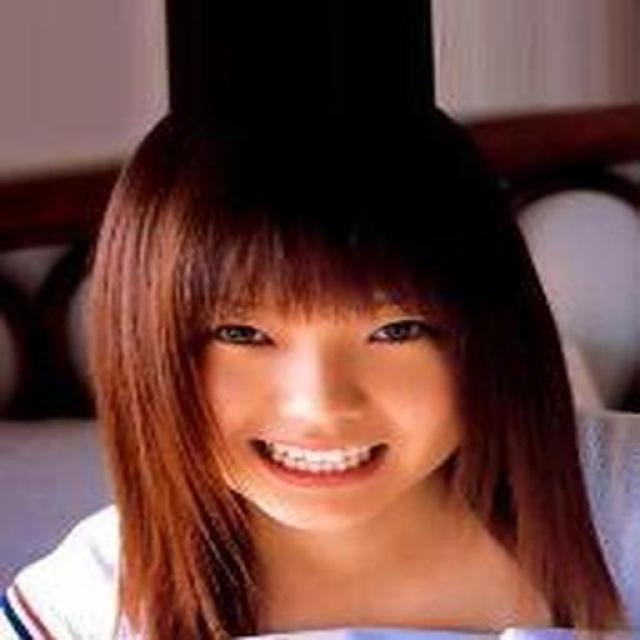bareface: (94, 125, 564, 540)
